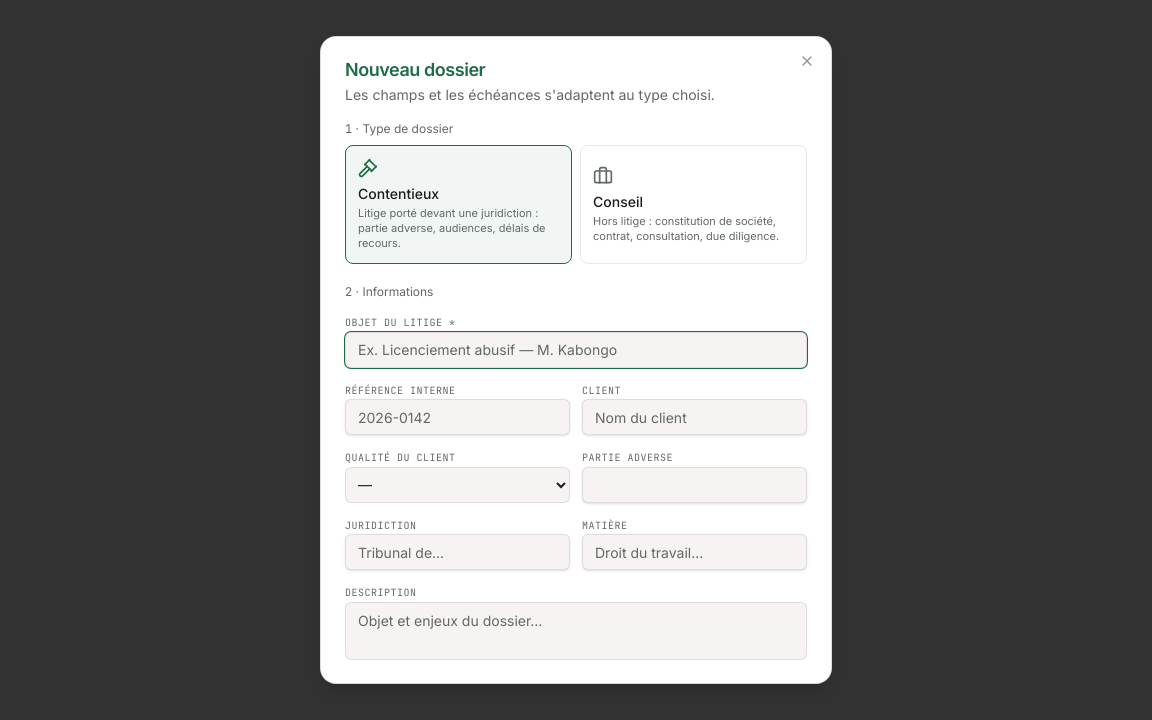
Test: adapte les champs et les échéances suggérées au type choisi
This screenshot has width=1152, height=720.
Check: the field labelled "Partie adverse" is shown, box [582,467,807,503]
Check: the text "Dépôt RCCM" is not shown
Bascule en conseil → nature à la place de l'adverse, autres préréglages.
What coordinates should you click on to do the following:
click the button "Conseil"
I would click on:
 (694, 205)
Its box is [580,145,807,264].
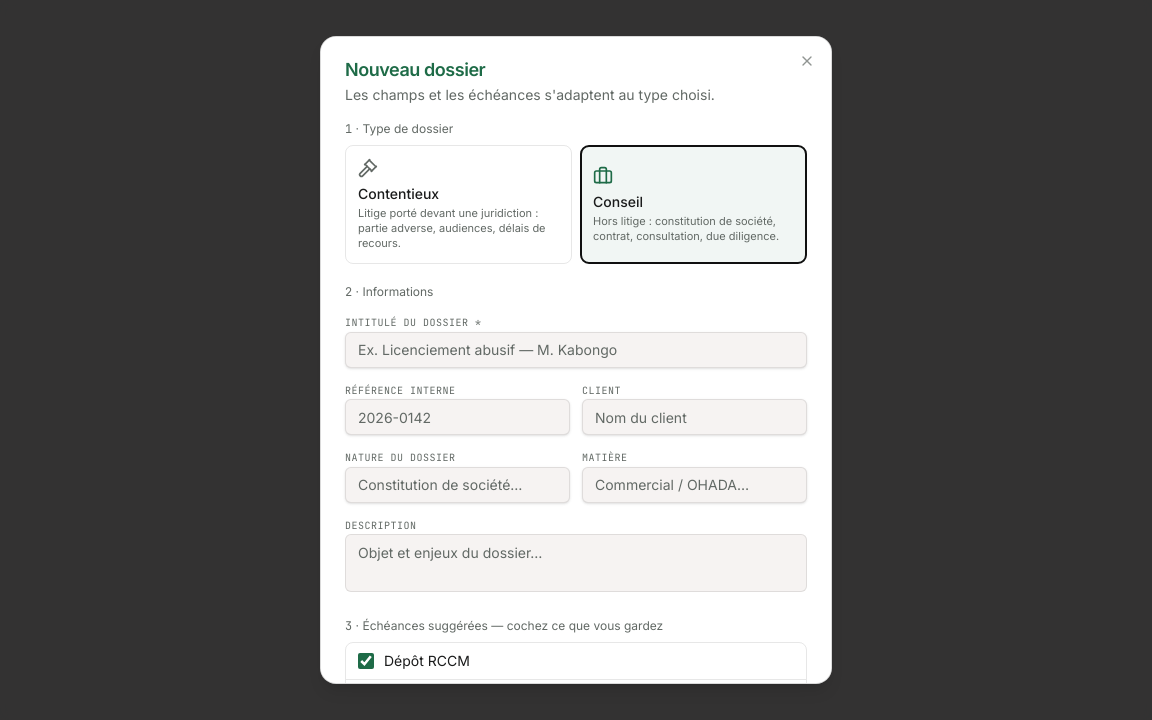
Check: the field labelled "Nature du dossier" is shown, box [345,467,570,503]
Check: the text "Dépôt RCCM" is shown, box [384,651,470,671]
